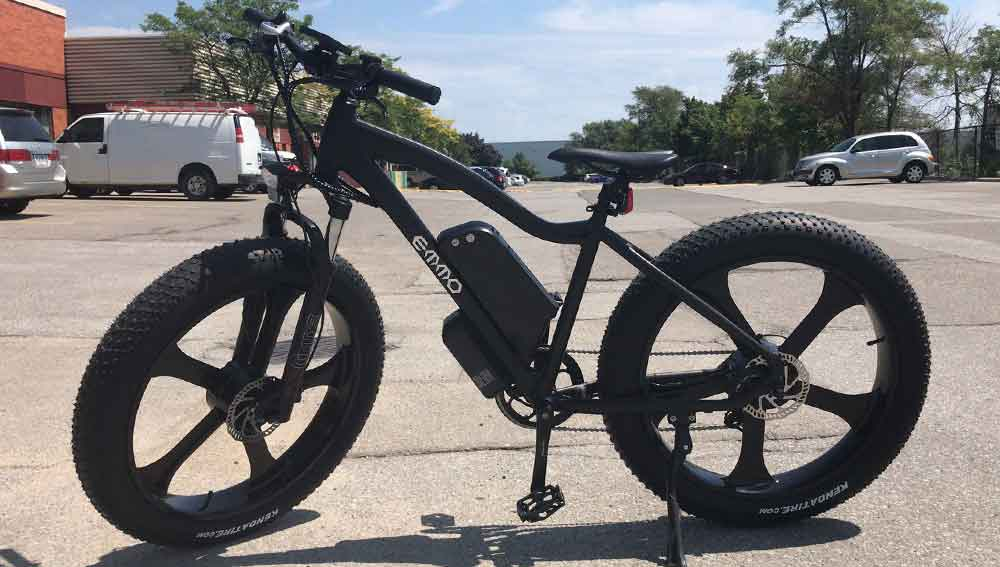bicycle: (69, 5, 937, 567)
car: (52, 100, 273, 201), (794, 127, 944, 188), (1, 109, 72, 220)
